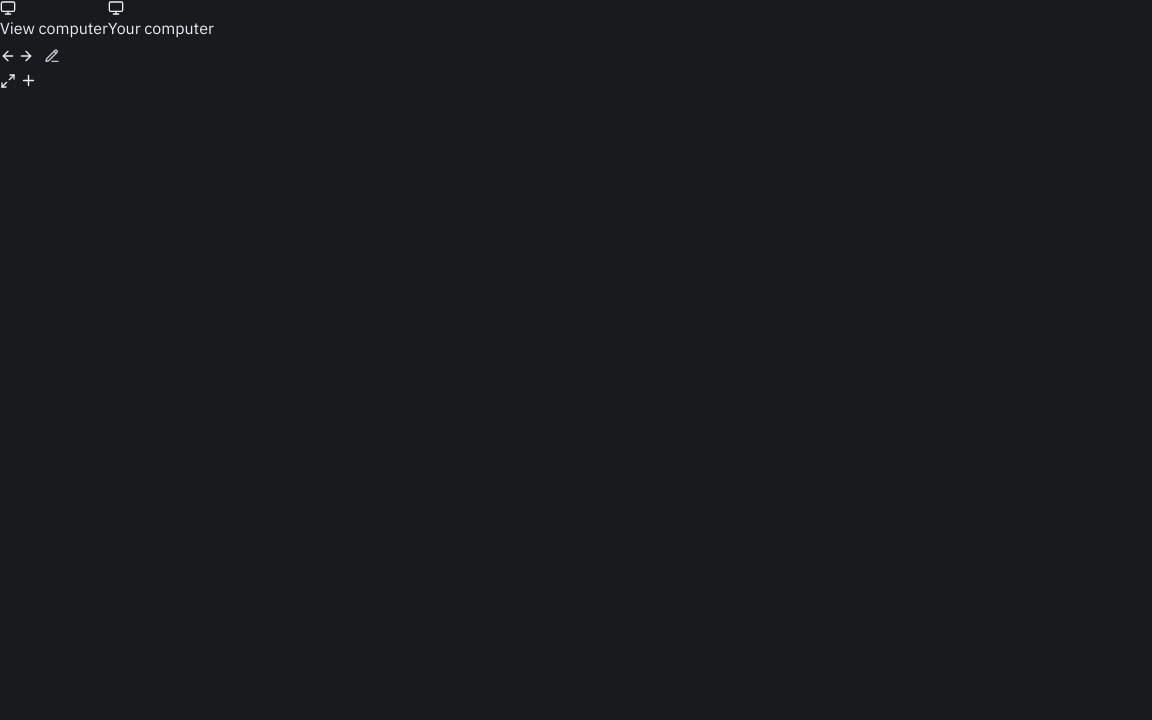
Test case: opens Your computer without randomUUID on an HTTP origin
The image size is (1152, 720).
Click the button "Your computer": (161, 20) [108,0,214,40]
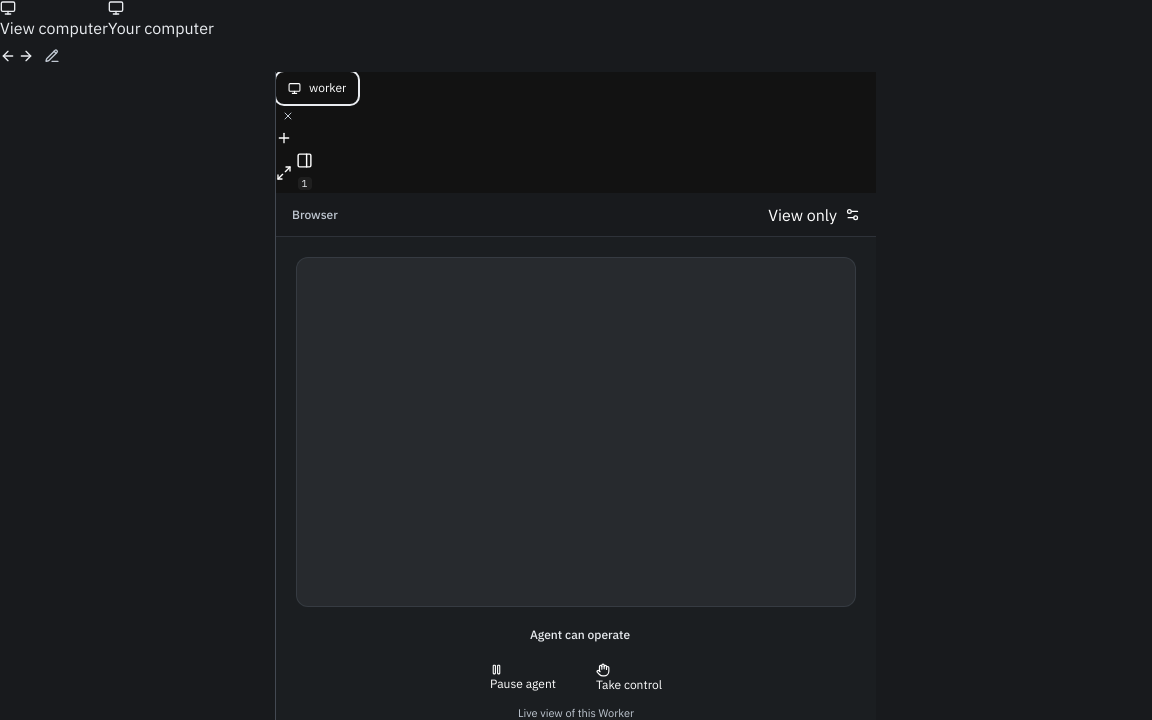
Check: the text "Agent can operate" is shown, box [522,627,630,643]
